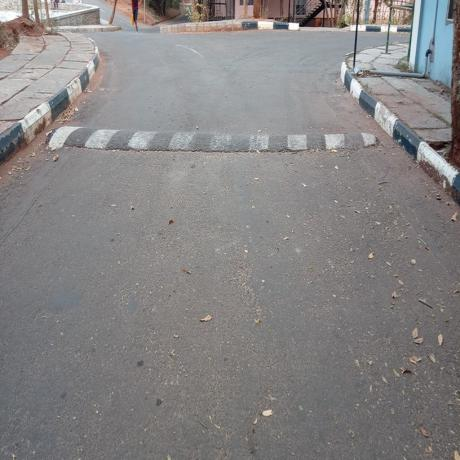Speed Bump: (47, 122, 380, 152)
